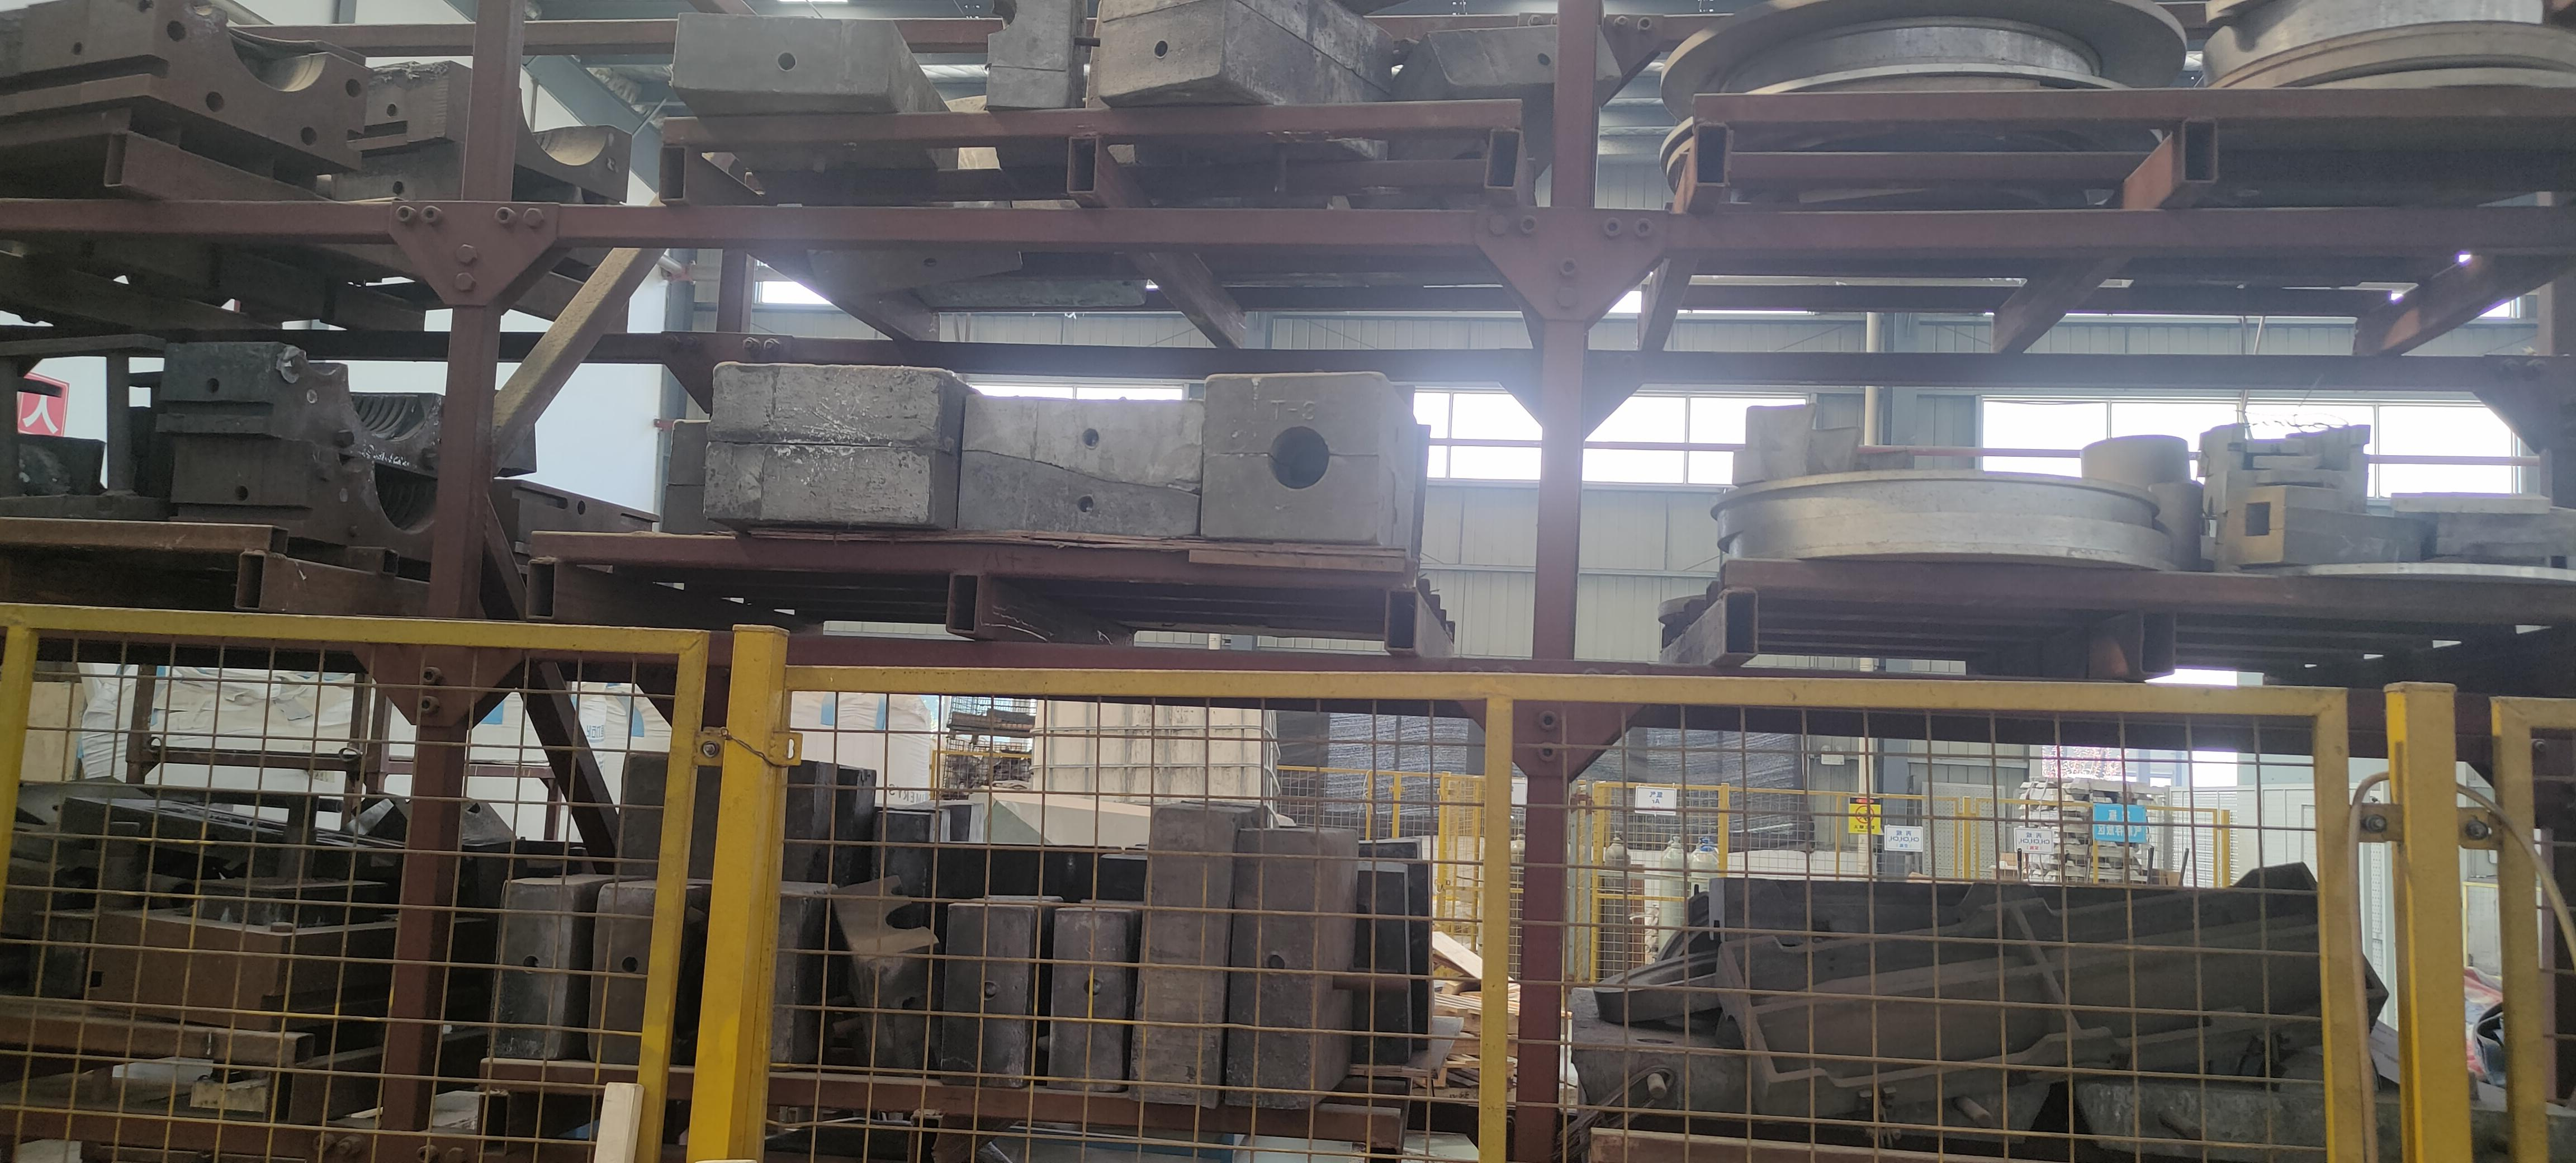pouring hole: (1267, 425, 1331, 490)
